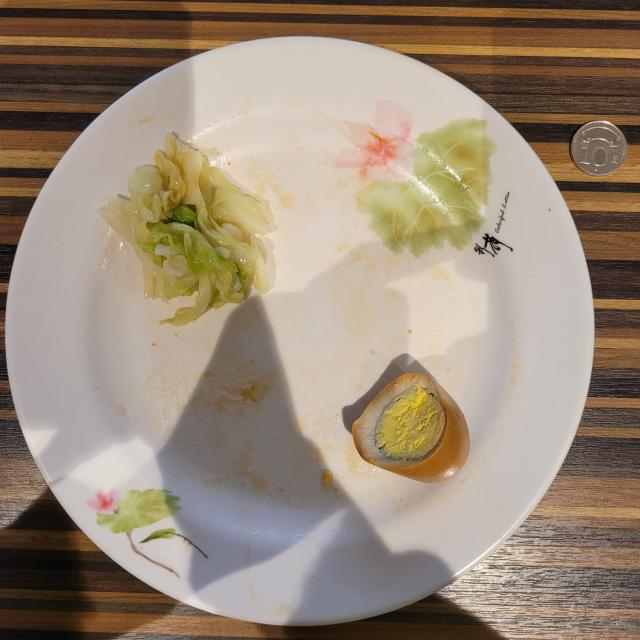cabbage: (99, 134, 271, 325)
coin: (571, 121, 628, 176)
soy egg: (352, 372, 470, 482)
